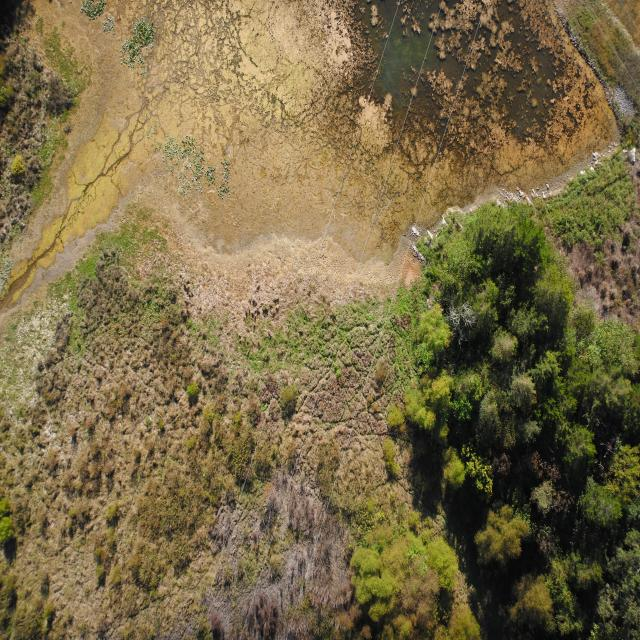Area of Interest: (407, 208, 637, 633)
